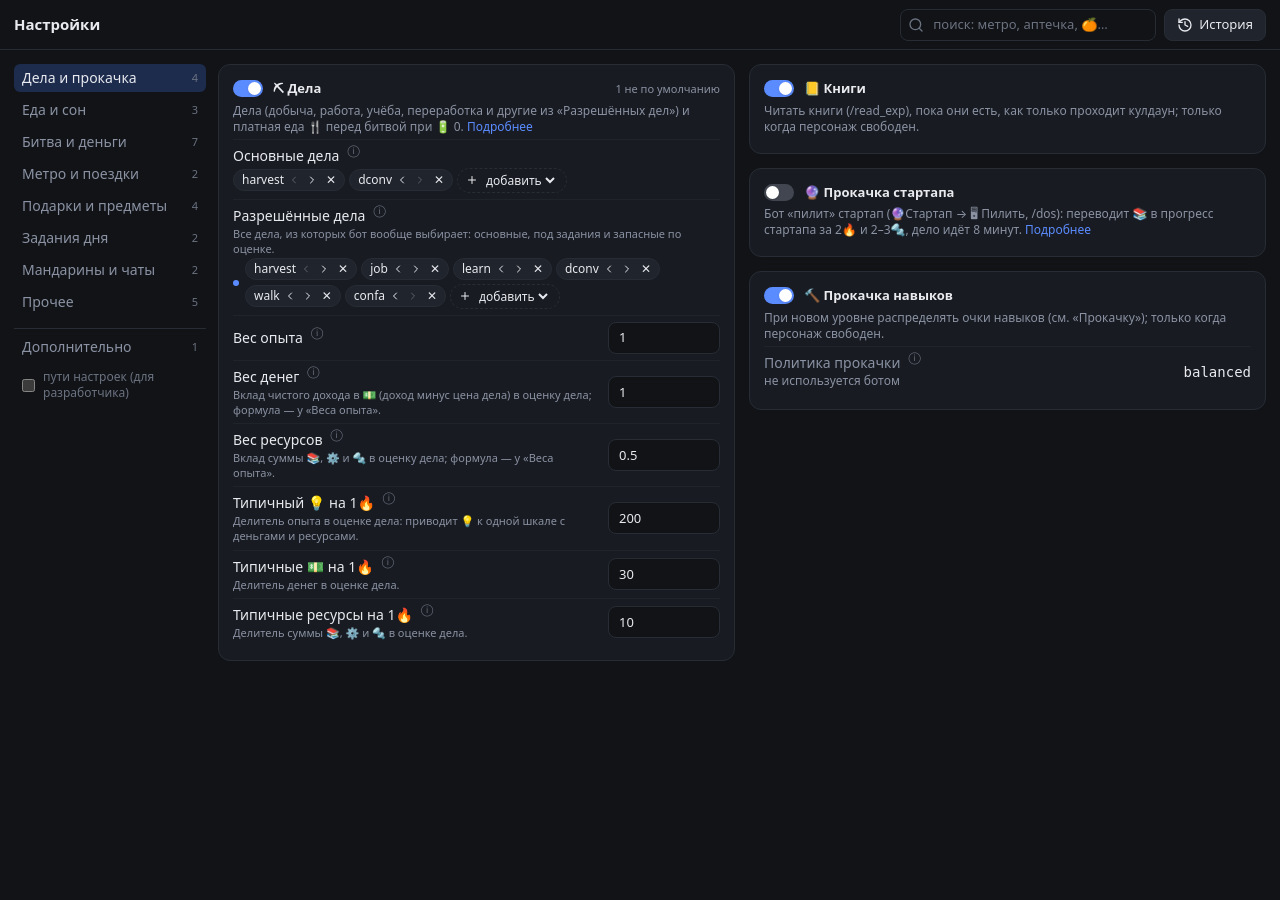
Test: Настройки › раздел «Сбор артефакта» — списки дел; запись сбора (только чтение) не показывается
This screenshot has width=1280, height=900.
Click the button "Подарки и предметы 4" at (110, 206), box [14,192,206,220]
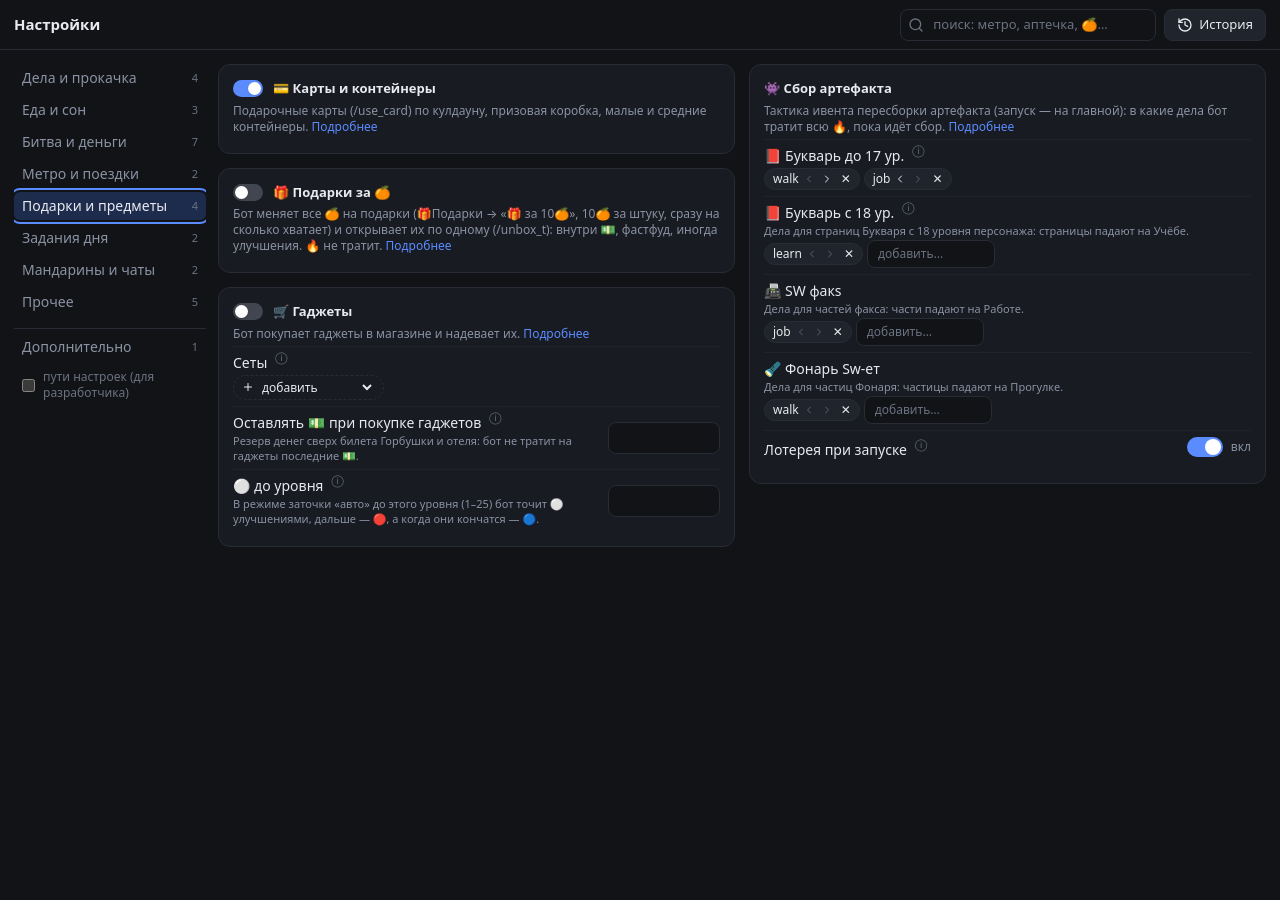
Expected: the element named "📕 Букварь до 17 ур." shows "walk", [773,170,799,186]
Expected: the switch labelled "Лотерея при запуске" is checked, [764,440,907,460]
